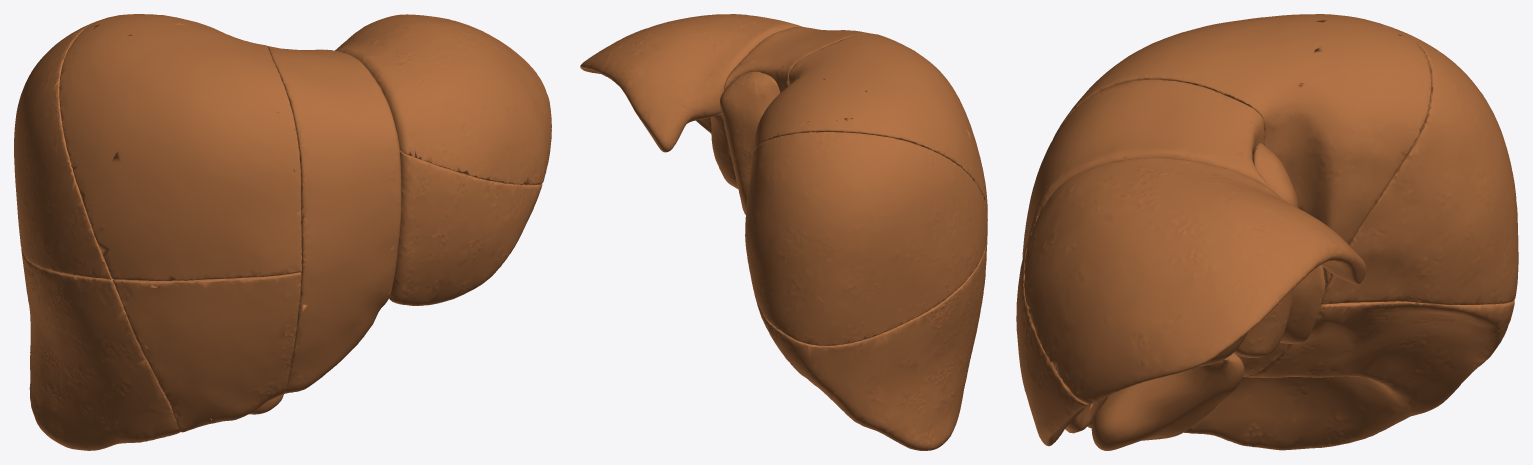
The model's file is Liver.glb.
3 views of the same model, side by side, from view 1: azimuth 30°, elevation 25°; view 2: azimuth 150°, elevation 25°; view 3: azimuth 270°, elevation 25° (orthographic). The views are drawn at different scales.
Parts seen in each view (by area): view 1: Object_75, Object_76, Object_73, Object_71, Object_70, Object_72, Object_74; view 2: Object_74, Object_75, Object_70, Object_73, Object_76, Object_72; view 3: Object_73, Object_75, Object_70, Object_74, Object_76, Object_71, Object_72.
Boxes of the visible parts, bbox=[...] form: Object_75: bbox=[59, 14, 301, 280]; Object_76: bbox=[267, 46, 401, 394]; Object_73: bbox=[335, 14, 551, 184]; Object_71: bbox=[112, 272, 301, 432]; Object_70: bbox=[21, 249, 180, 450]; Object_72: bbox=[389, 150, 542, 305]; Object_74: bbox=[14, 20, 111, 279]; Object_74: bbox=[745, 132, 987, 345]; Object_75: bbox=[720, 33, 987, 214]; Object_70: bbox=[755, 235, 987, 450]; Object_73: bbox=[580, 14, 802, 152]; Object_76: bbox=[724, 27, 870, 92]; Object_72: bbox=[696, 112, 738, 188]; Object_73: bbox=[1024, 158, 1366, 404]; Object_75: bbox=[1053, 14, 1431, 357]; Object_70: bbox=[1184, 300, 1514, 450]; Object_74: bbox=[1321, 29, 1518, 304]; Object_76: bbox=[1022, 79, 1270, 433]; Object_71: bbox=[1087, 342, 1290, 450]; Object_72: bbox=[1016, 214, 1247, 446].
Size of the model in its own units: 0.2094 by 0.167 by 0.1591.
